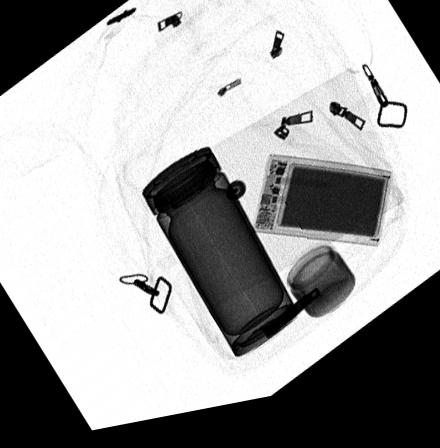Powerbank: (250, 163, 391, 261)
